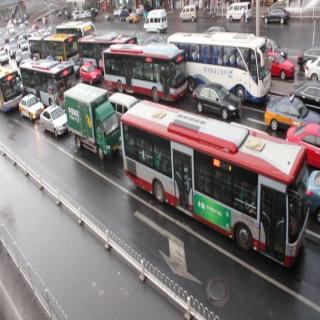BigCar: (127, 105, 304, 286), (61, 82, 120, 166), (109, 43, 190, 103)
Car: (258, 90, 312, 135), (189, 81, 230, 129), (41, 105, 66, 146), (19, 94, 39, 126)
